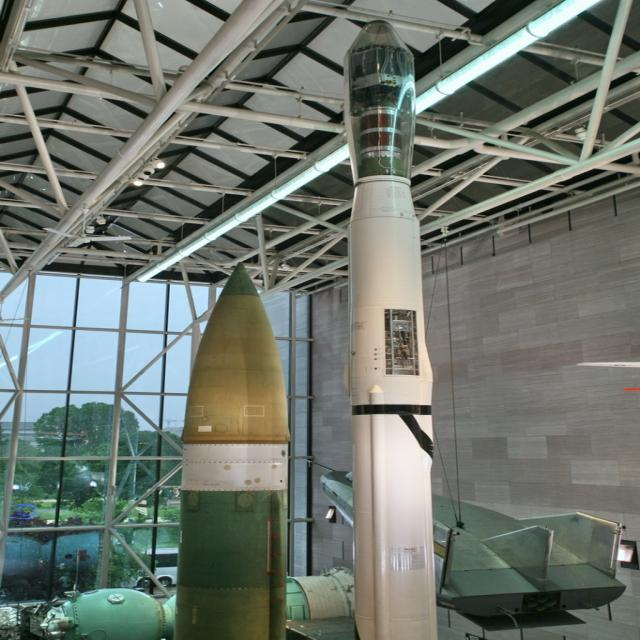rocket: (160, 264, 296, 640)
